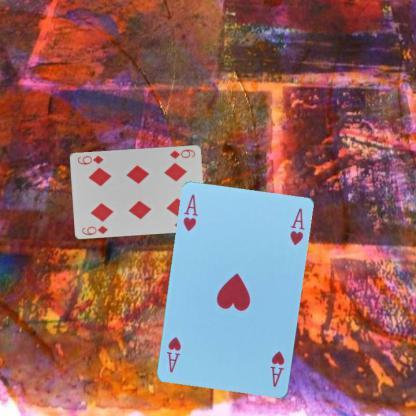6d: (166, 146, 196, 160), (80, 224, 110, 235)
Ah: (180, 192, 199, 234), (268, 348, 286, 389)
